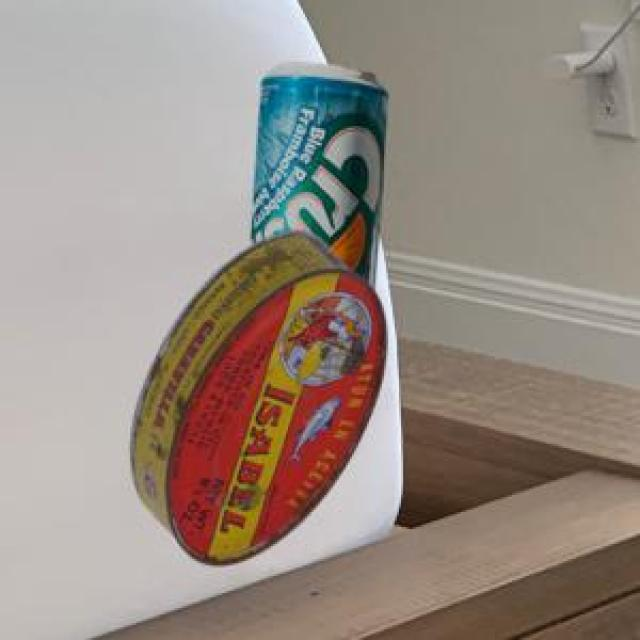logam: (127, 227, 383, 562), (249, 61, 385, 285)
